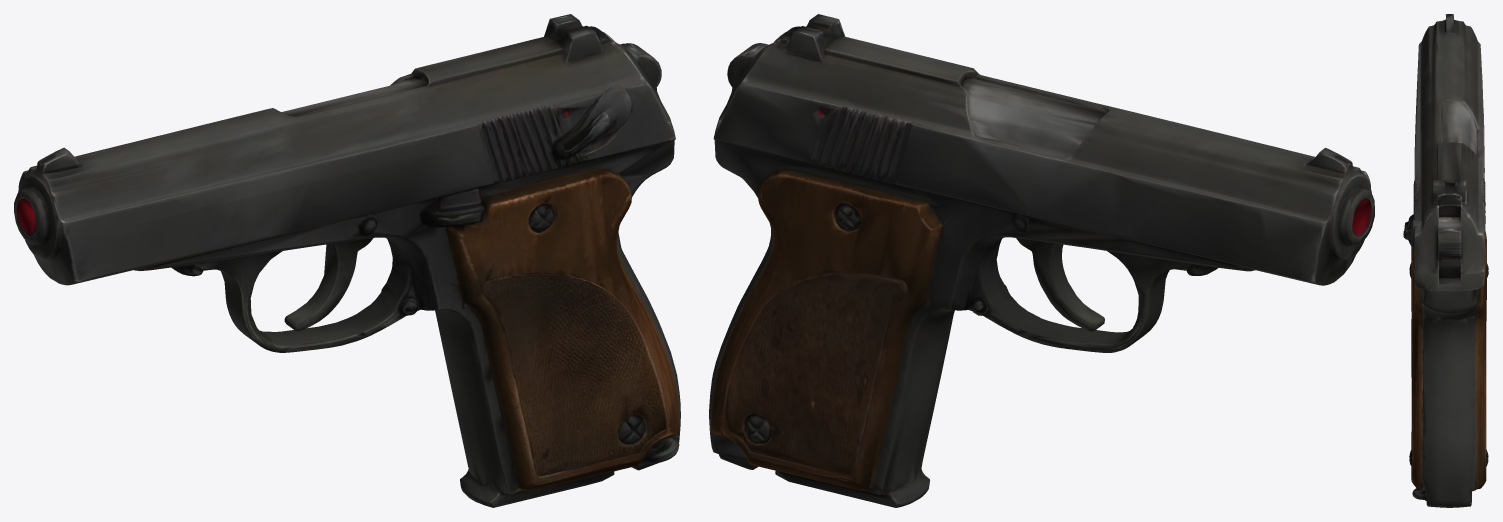
Rendered from service-pistol.glb.
3 renders of one model, left to right at view 1: azimuth 30°, elevation 25°; view 2: azimuth 150°, elevation 25°; view 3: azimuth 270°, elevation 25°, orthographic. The views are drawn at different scales.
Parts seen in each view (by area): view 1: material; view 2: material; view 3: material.
Part boxes in pixels (x1,y1,x2,y2): material: (14,14,680,507); material: (709,14,1374,507); material: (1403,14,1488,507).
Size of the model in its own units: 1.03 by 0.6818 by 0.1747.
Materials: 1 (1 with a texture image).
